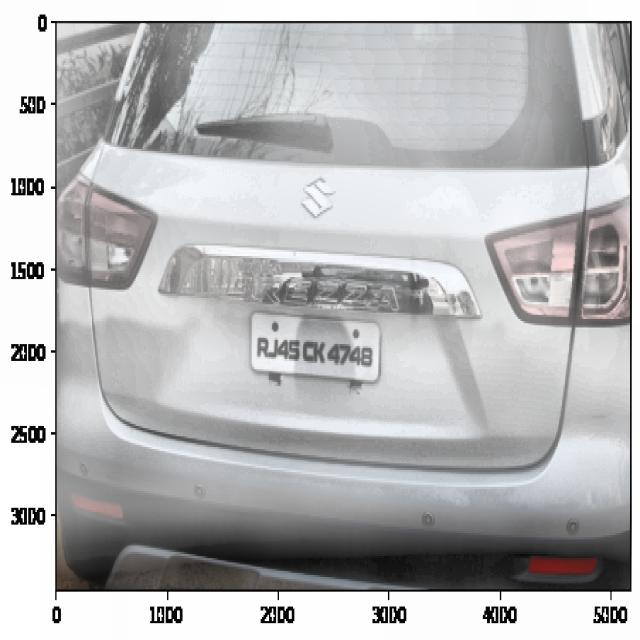license_plate: (250, 311, 377, 382)
